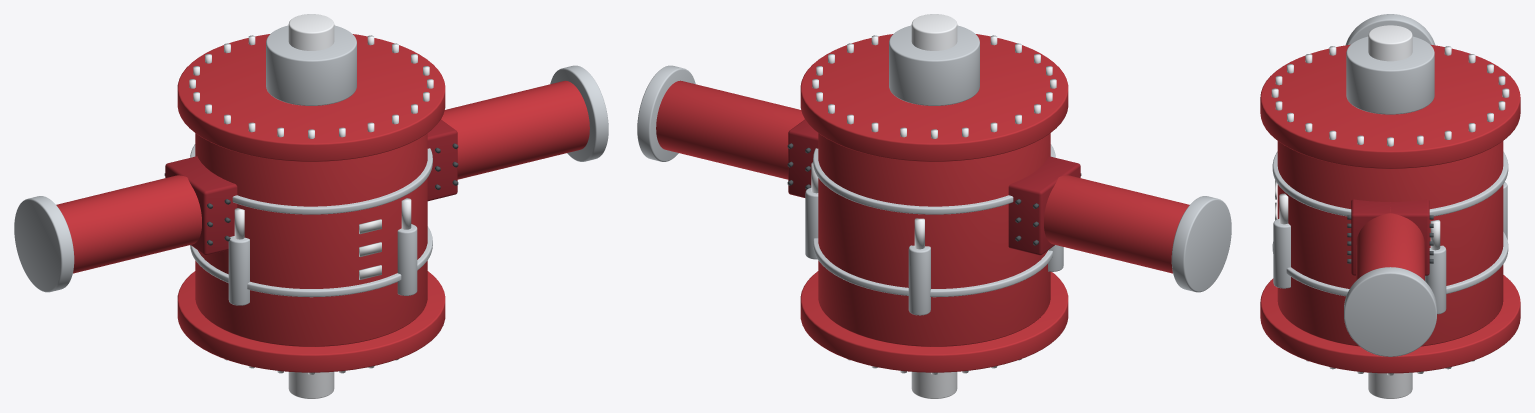
File: diverter.glb
The picture shows the model from 3 angles, left to right: view 1: azimuth 30°, elevation 25°; view 2: azimuth 150°, elevation 25°; view 3: azimuth 270°, elevation 25°; orthographic projection. The views are drawn at different scales.
Parts seen in each view (by area): view 1: diversor_HMH_vermelho, diversor_aco, diversor_HMH_vermelho_escuro, diversor_cromo, diversor_branco; view 2: diversor_HMH_vermelho, diversor_aco, diversor_HMH_vermelho_escuro, diversor_cromo; view 3: diversor_HMH_vermelho, diversor_aco, diversor_cromo, diversor_HMH_vermelho_escuro, diversor_aco_escuro.
Part boxes in pixels (x1,y1,x2,y2): diversor_HMH_vermelho: [56, 34, 589, 372]; diversor_aco: [14, 25, 608, 305]; diversor_HMH_vermelho_escuro: [165, 119, 457, 255]; diversor_cromo: [189, 14, 433, 398]; diversor_branco: [359, 219, 381, 279]; diversor_HMH_vermelho: [656, 34, 1189, 372]; diversor_aco: [637, 25, 1231, 315]; diversor_HMH_vermelho_escuro: [788, 119, 1080, 255]; diversor_cromo: [811, 14, 1056, 398]; diversor_HMH_vermelho: [1260, 44, 1520, 373]; diversor_aco: [1272, 14, 1508, 356]; diversor_cromo: [1271, 25, 1509, 398]; diversor_HMH_vermelho_escuro: [1351, 199, 1429, 275]; diversor_aco_escuro: [1347, 215, 1433, 263].
Bounding box in the file's own units: 12.5 × 8 × 5.3.
